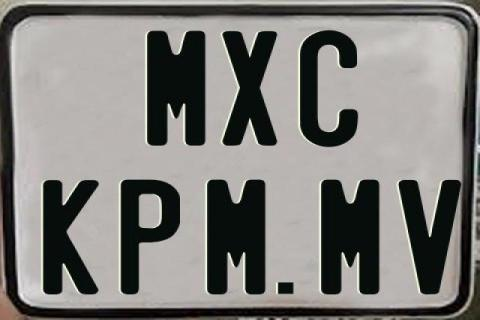C: (300, 30, 362, 148)
K: (43, 178, 101, 296)
M: (320, 177, 381, 293), (146, 28, 205, 143), (206, 177, 264, 293)
P: (118, 180, 182, 300)
V: (396, 179, 460, 293)
X: (221, 30, 280, 150)
